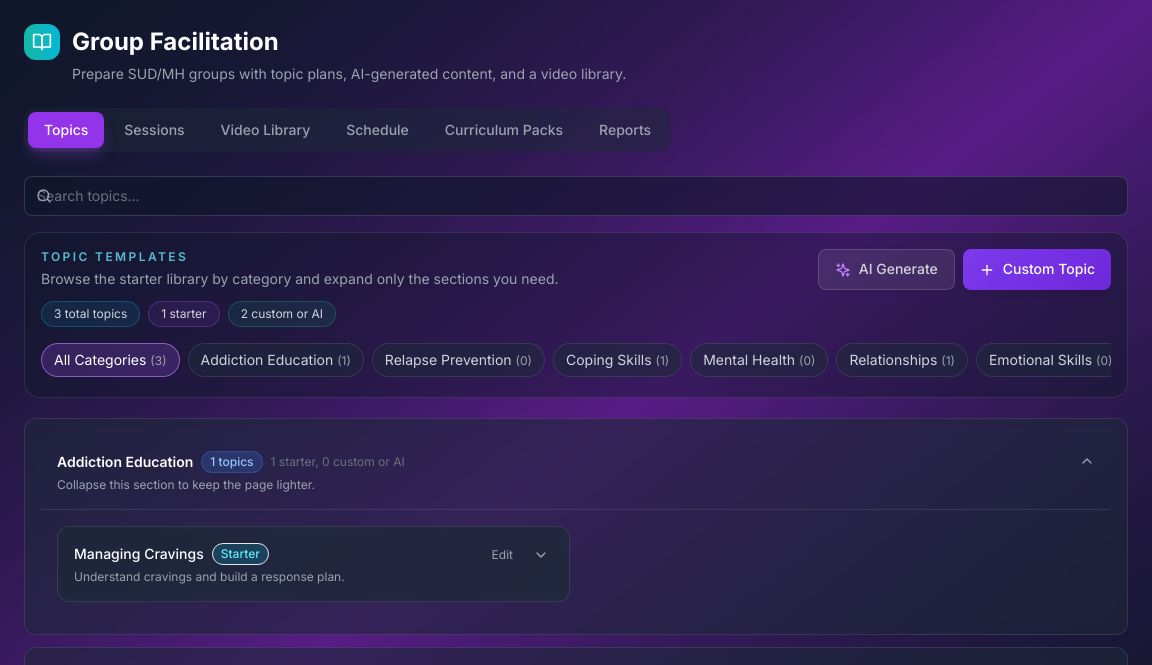
Test: Groups topics template layout › renders category filters and collapsible template groups
This screenshot has width=1152, height=665.
Expected: the text "Managing Cravings" is shown, [74,544,204,564]
Expected: the button with aria-label "Filter All Categories" is shown, [41,343,180,377]
Click the button with aria-label "Collapse Addiction Education topics" at (125, 462), box [41,435,1111,509]
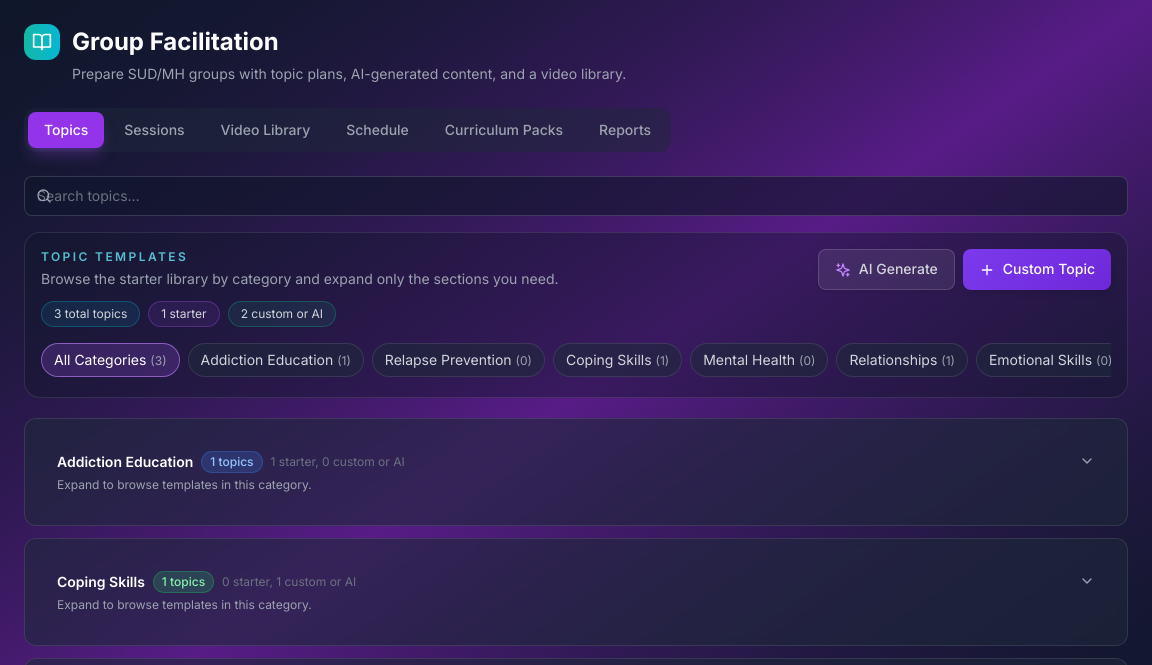
Result: the button with aria-label "Expand Addiction Education topics" is shown
Result: the button "Managing Cravings" is gone
Click the button with aria-label "Expand Addiction Education topics" at (125, 462), box [41,435,1111,509]
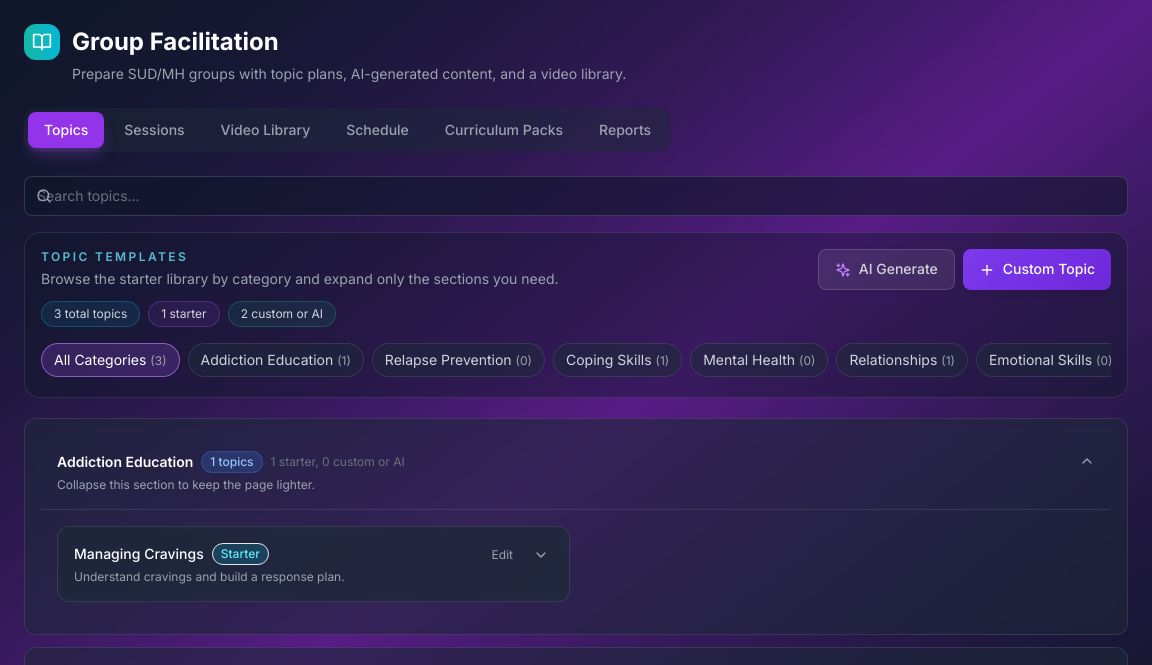
Result: the text "Managing Cravings" is shown at [74,544,204,564]
